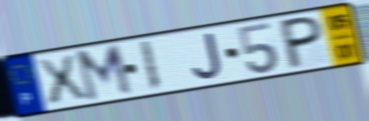5: (237, 20, 281, 75)
I: (138, 39, 164, 94)
J: (191, 31, 224, 82)
M: (72, 42, 136, 105)
P: (280, 13, 324, 72)
X: (33, 52, 91, 107)
